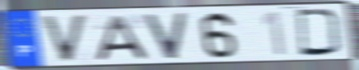1: (261, 9, 287, 58)
6: (197, 10, 238, 60)
A: (93, 14, 150, 62)
D: (294, 8, 345, 58)
V: (39, 13, 91, 64), (142, 11, 190, 61)
